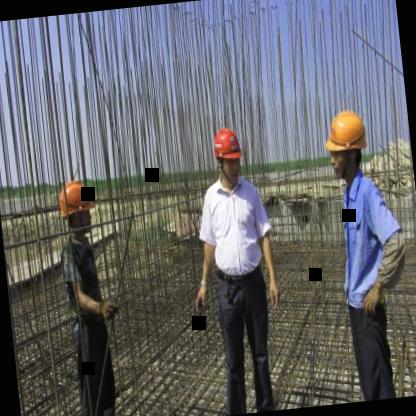helmet: (316, 100, 376, 184), (53, 170, 97, 239), (209, 117, 248, 187)
